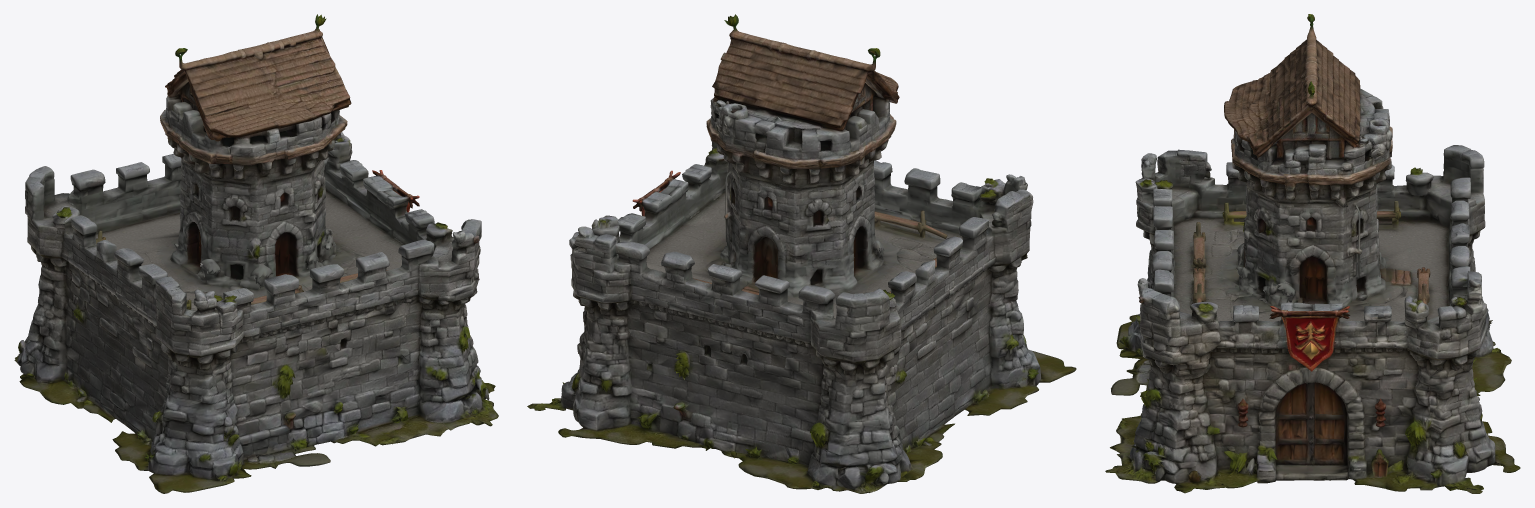
Rendered from stronghold.glb.
3 views of the same model, side by side, from view 1: azimuth 30°, elevation 25°; view 2: azimuth 150°, elevation 25°; view 3: azimuth 270°, elevation 25° (orthographic). The views are drawn at different scales.
Visible parts, largest first — view 1: tripo_node_8b32bebc-3a6d-4db4-9b19-4a90bb909440; view 2: tripo_node_8b32bebc-3a6d-4db4-9b19-4a90bb909440; view 3: tripo_node_8b32bebc-3a6d-4db4-9b19-4a90bb909440.
Boxes of the visible parts, x1,y1,x2,y2 form: tripo_node_8b32bebc-3a6d-4db4-9b19-4a90bb909440: [14, 14, 498, 493]; tripo_node_8b32bebc-3a6d-4db4-9b19-4a90bb909440: [527, 14, 1076, 493]; tripo_node_8b32bebc-3a6d-4db4-9b19-4a90bb909440: [1105, 14, 1520, 493].
Bounding box in the file's own units: 0.9803 × 0.9119 × 0.9574.
1 material, 1 textured.
